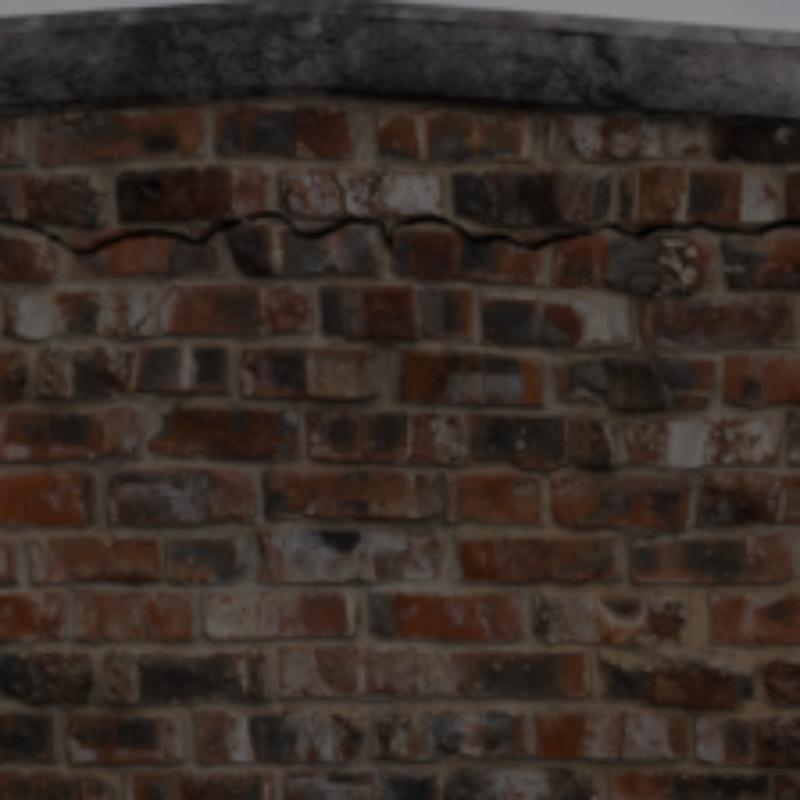crack: (418, 214, 796, 246), (0, 218, 246, 254), (246, 211, 418, 250), (332, 171, 346, 214), (136, 314, 150, 332)
